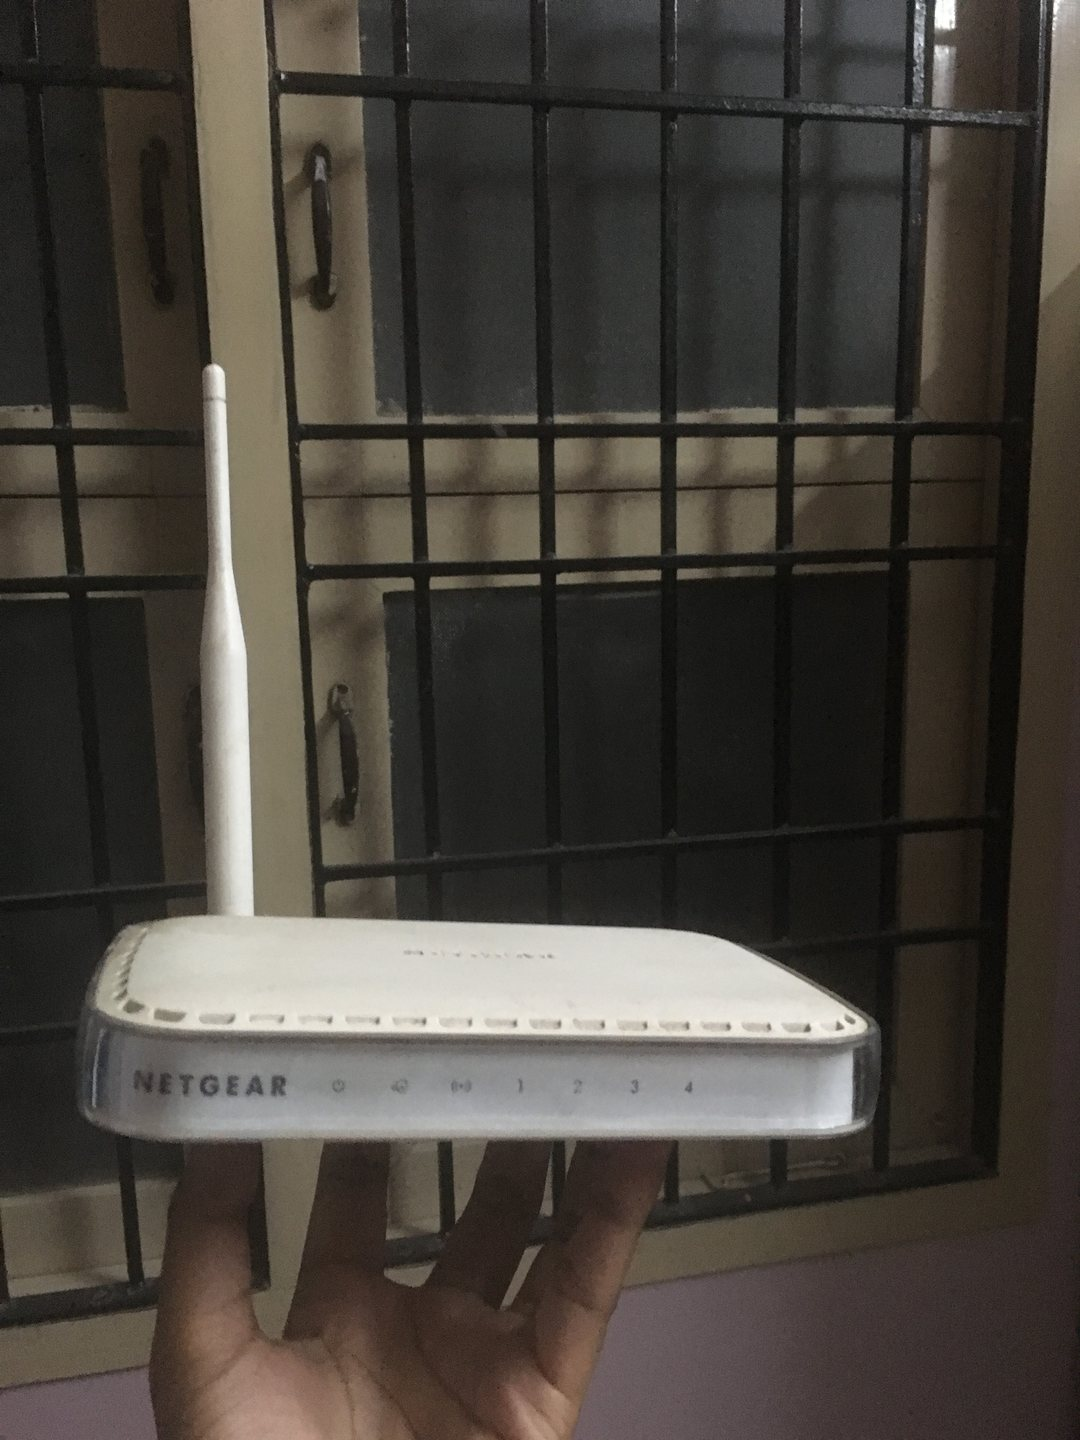NETGEAR: (128, 1062, 292, 1104)
modem: (79, 1014, 884, 1144)
